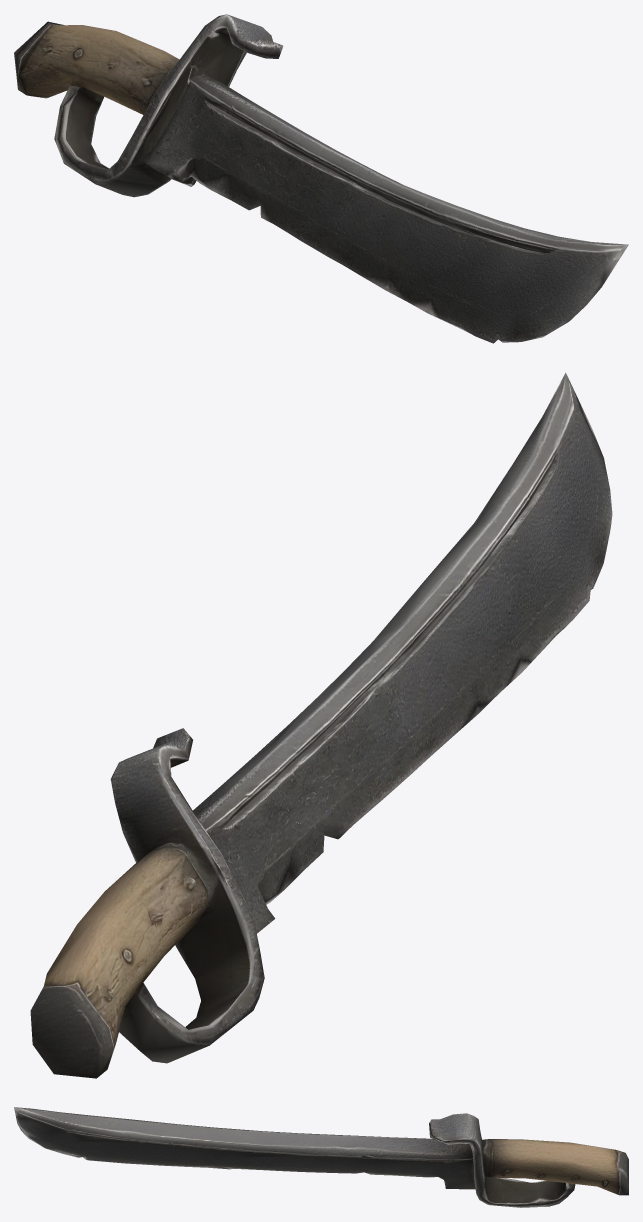
Rendered from cavalry_hp_melee.glb.
3 renders of one model, top to bottom at view 1: azimuth 30°, elevation 25°; view 2: azimuth 150°, elevation 25°; view 3: azimuth 270°, elevation 25°, orthographic. The views are drawn at different scales.
Visible parts, largest first — view 1: tripo_node_cc70493e-8a7f-430a-aa94-933d265b9659; view 2: tripo_node_cc70493e-8a7f-430a-aa94-933d265b9659; view 3: tripo_node_cc70493e-8a7f-430a-aa94-933d265b9659.
Part boxes in pixels (x1,y1,x2,y2): tripo_node_cc70493e-8a7f-430a-aa94-933d265b9659: [14, 14, 628, 343]; tripo_node_cc70493e-8a7f-430a-aa94-933d265b9659: [30, 372, 612, 1078]; tripo_node_cc70493e-8a7f-430a-aa94-933d265b9659: [14, 1107, 628, 1207].
Size of the model in its own units: 0.1214 by 0.1777 by 0.7396.
Materials: 1 (1 with a texture image).
